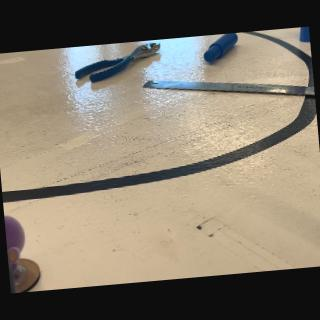teletubby: (4, 216, 25, 271)
